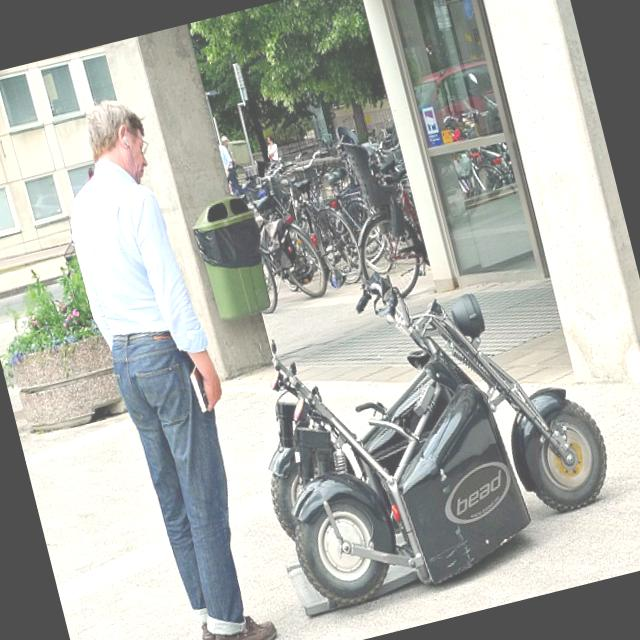Vehicle: (222, 226, 630, 621), (414, 57, 499, 132), (476, 138, 520, 198)
